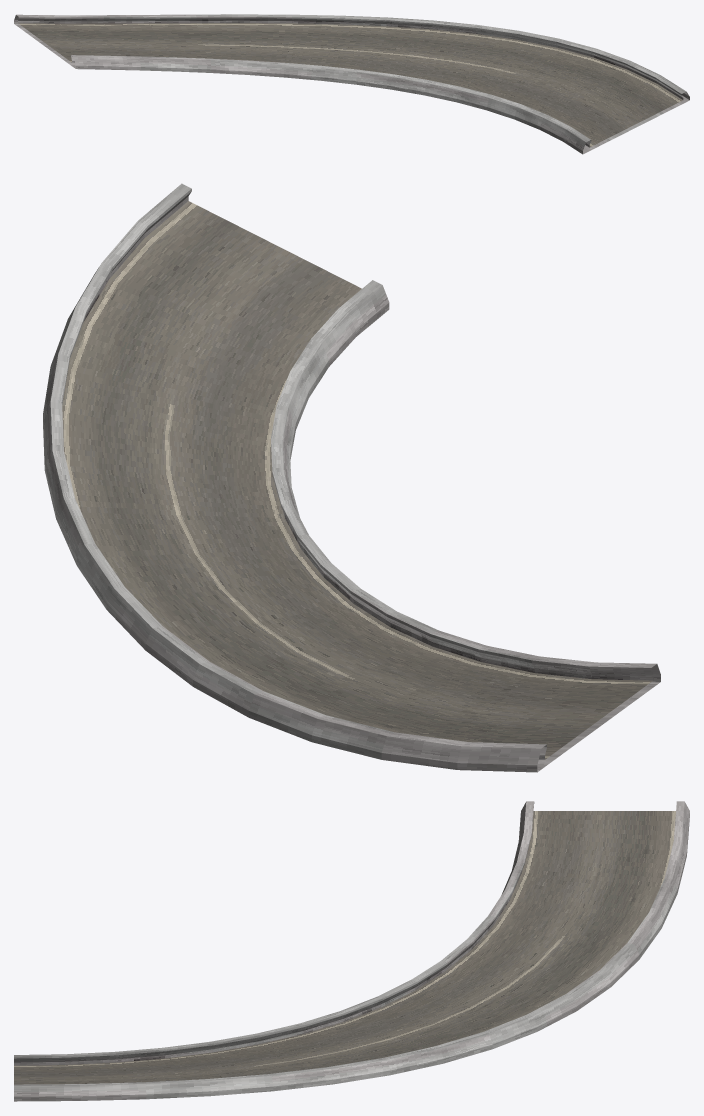
File: turn-left4x4.glb
3 views of the same model, one above another, from view 1: azimuth 30°, elevation 25°; view 2: azimuth 150°, elevation 25°; view 3: azimuth 270°, elevation 25° (orthographic). The views are drawn at different scales.
Parts seen in each view (by area): view 1: road-Turn-HalfBankedLeft-BiSlopeUp-Up1-Left-Size4; view 2: road-Turn-HalfBankedLeft-BiSlopeUp-Up1-Left-Size4; view 3: road-Turn-HalfBankedLeft-BiSlopeUp-Up1-Left-Size4.
Boxes of the visible parts, box(x1,y1,x2,y2) form: road-Turn-HalfBankedLeft-BiSlopeUp-Up1-Left-Size4: box(14, 14, 689, 154); road-Turn-HalfBankedLeft-BiSlopeUp-Up1-Left-Size4: box(43, 183, 660, 772); road-Turn-HalfBankedLeft-BiSlopeUp-Up1-Left-Size4: box(14, 801, 689, 1101).
Size of the model in its own units: 4 by 0.3758 by 4.
Materials: 2 (2 with a texture image).
